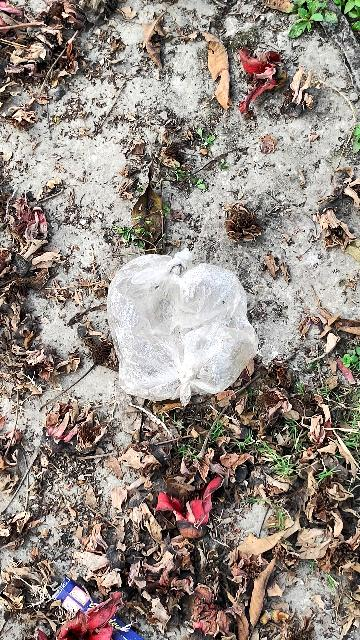polythene: (115, 263, 266, 395)
